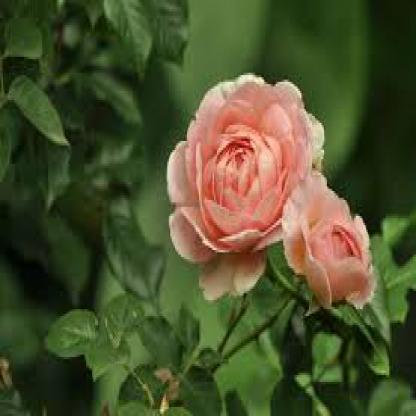Rose-Mawar: (164, 67, 376, 317)
